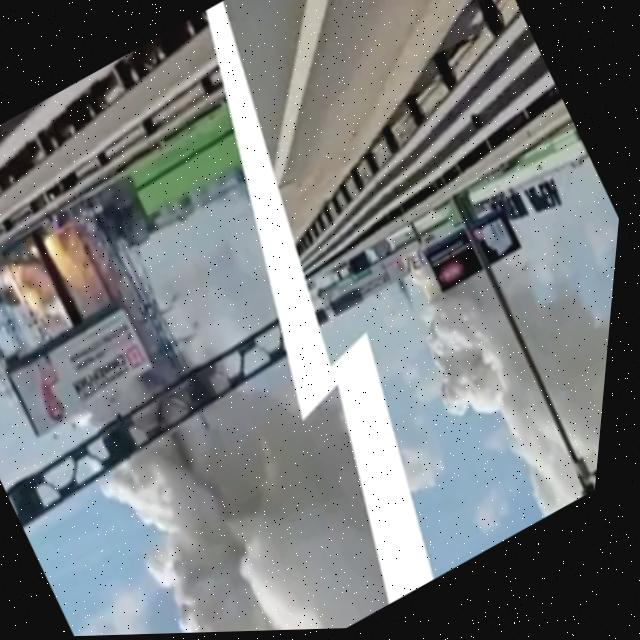Smoke: (77, 362, 429, 637), (376, 175, 627, 545)
